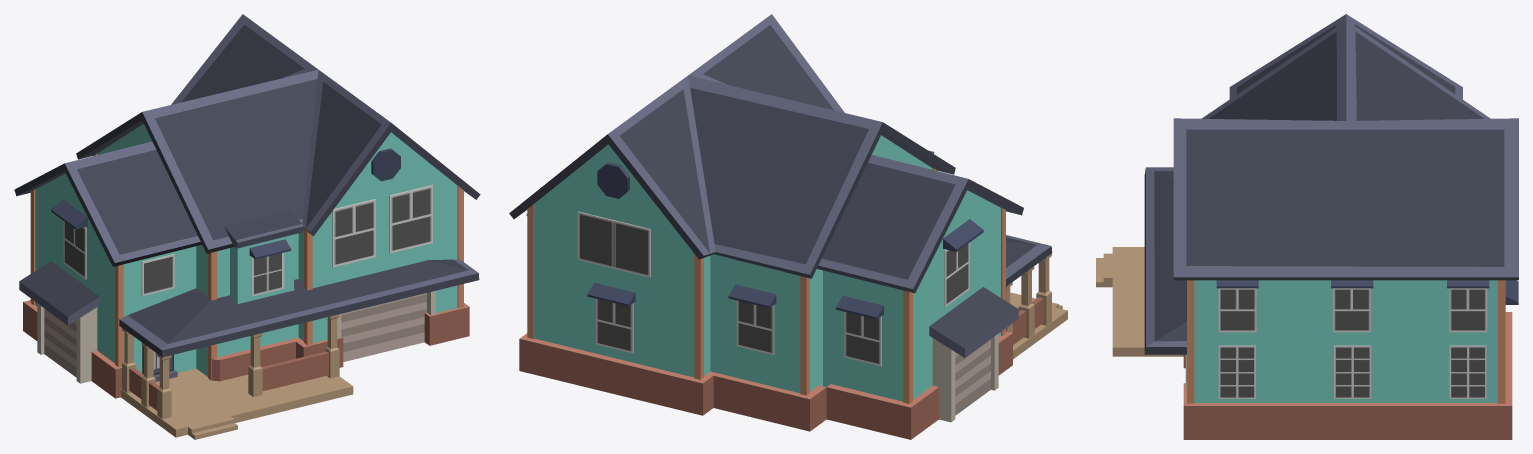
Rendered from house01_color03.fbx.
The picture shows the model from 3 angles, left to right: view 1: azimuth 30°, elevation 25°; view 2: azimuth 150°, elevation 25°; view 3: azimuth 270°, elevation 25°; orthographic projection. The views are drawn at different scales.
Parts seen in each view (by area): view 1: house01_color03; view 2: house01_color03; view 3: house01_color03.
Boxes of the visible parts, bbox=[...] form: house01_color03: bbox=[14, 14, 480, 439]; house01_color03: bbox=[509, 14, 1067, 439]; house01_color03: bbox=[1096, 14, 1518, 439].
Bounding box in the file's own units: 1515 × 945 × 1317.
